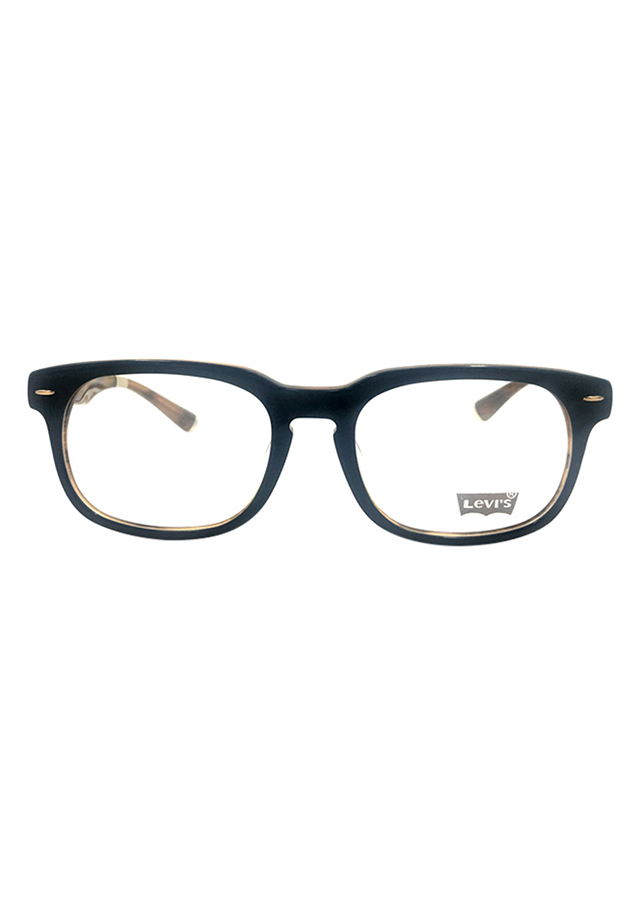Levi's: (447, 482, 527, 517)
